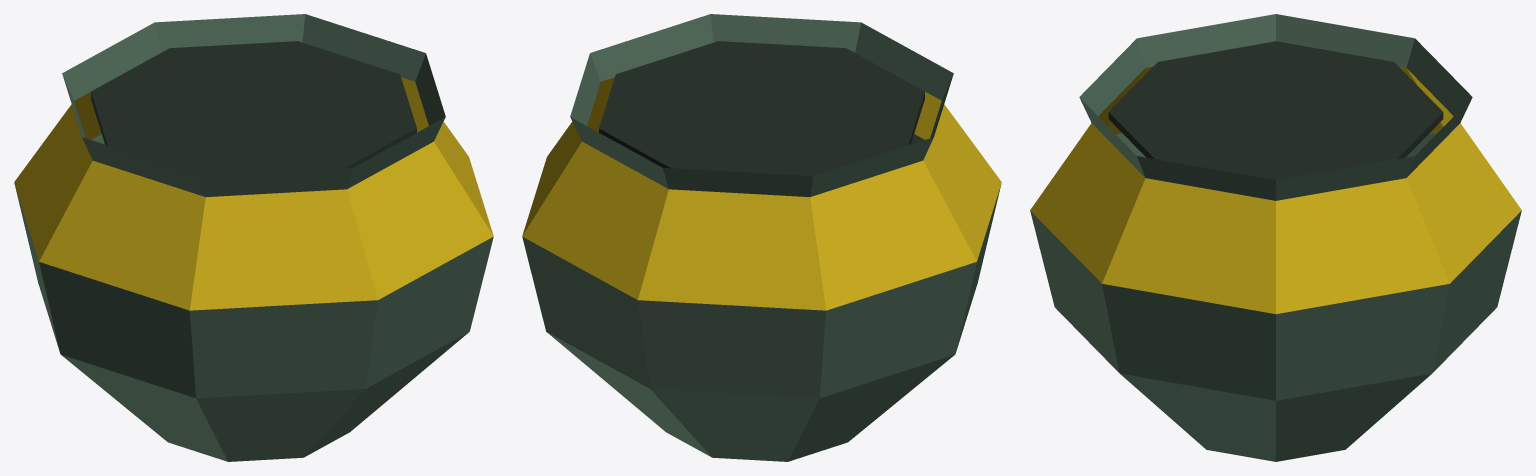
Rendered from vase-47.glb.
3 renders of one model, left to right at view 1: azimuth 30°, elevation 25°; view 2: azimuth 150°, elevation 25°; view 3: azimuth 270°, elevation 25°, orthographic.
Parts seen in each view (by area): view 1: vase_47; view 2: vase_47; view 3: vase_47.
Boxes of the visible parts, <box> form: vase_47: <box>14,14,493,461</box>; vase_47: <box>522,14,1001,461</box>; vase_47: <box>1030,14,1521,461</box>.
Size of the model in its own units: 0.2411 by 0.1749 by 0.2411.
